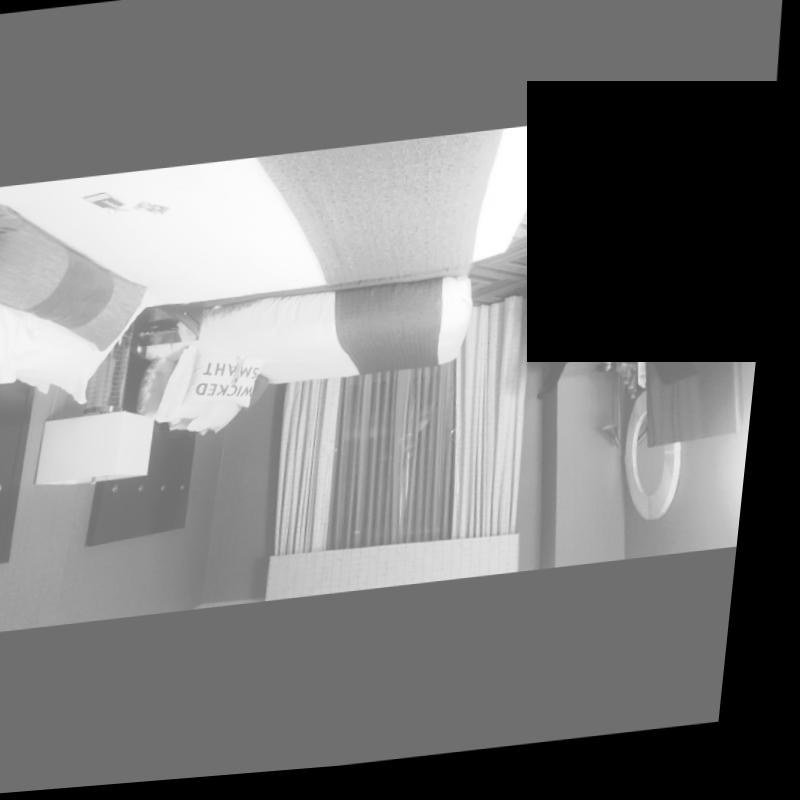pillow: (0, 183, 169, 376), (29, 298, 160, 413), (0, 197, 55, 394), (189, 344, 276, 415), (161, 341, 223, 432), (143, 355, 183, 424), (198, 406, 255, 442), (26, 367, 68, 395)
